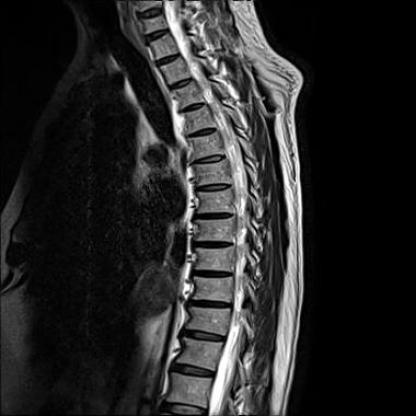Degenerative Disc Diseaserotation: (149, 27, 236, 416)
Osteophytesrotation: (149, 27, 236, 416)
